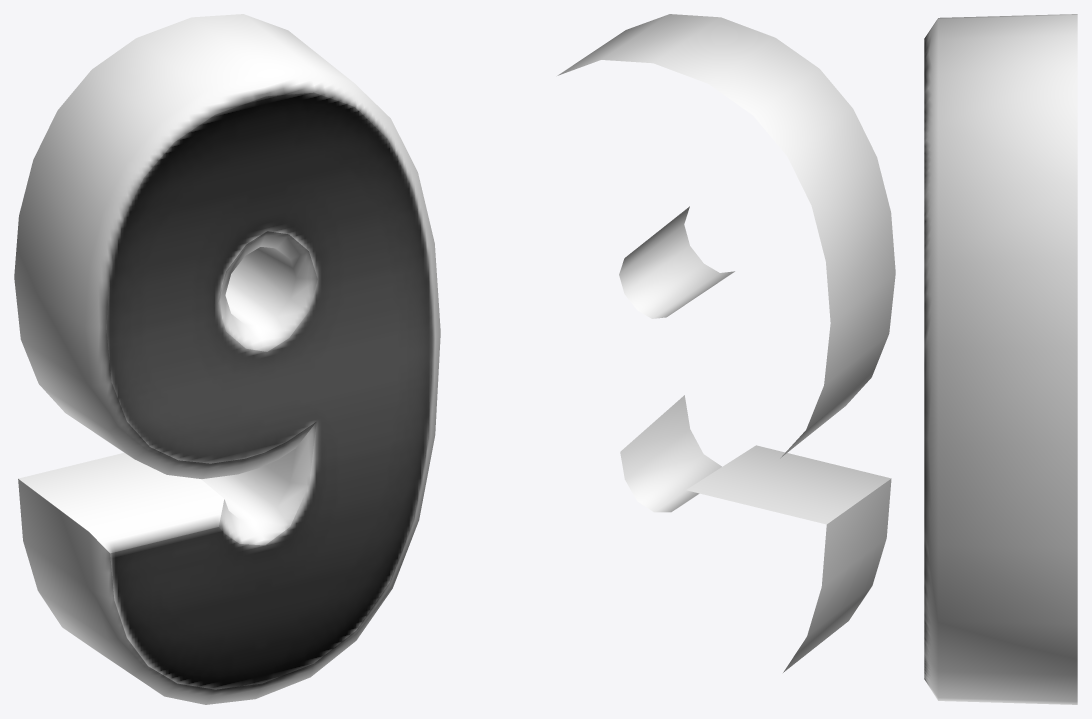
Rendered from bbl_score_model__score_9b.glb.
3 views of the same model, side by side, from view 1: azimuth 30°, elevation 25°; view 2: azimuth 150°, elevation 25°; view 3: azimuth 270°, elevation 25° (orthographic). The views are drawn at different scales.
Parts seen in each view (by area): view 1: polygon1, polygon0; view 2: polygon0; view 3: polygon0.
Boxes of the visible parts, x1=… form: polygon1: x1=106, y1=92, x2=432, y2=689; polygon0: x1=14, y1=14, x2=440, y2=704; polygon0: x1=557, y1=14, x2=895, y2=672; polygon0: x1=924, y1=14, x2=1077, y2=704.
Bounding box in the file's own units: 3.07 × 5.16 × 1.1.
Materials: 2 (2 with a texture image).
